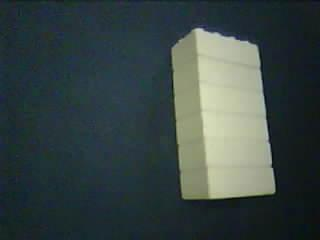lego: (168, 27, 277, 201)
